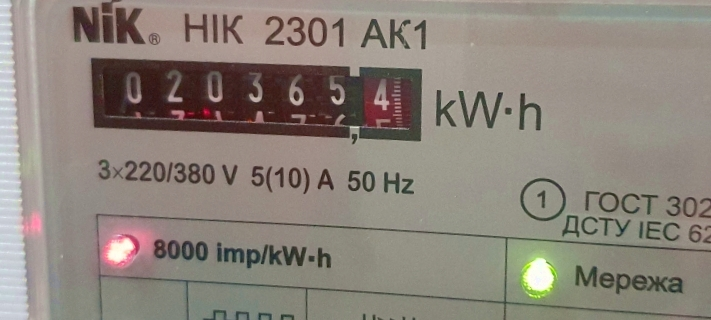0: (204, 67, 226, 104), (122, 69, 145, 104)
2: (161, 67, 186, 104)
3: (245, 67, 266, 104)
4: (371, 75, 392, 111)
5: (326, 72, 348, 106)
6: (285, 70, 307, 107)
screen: (69, 32, 445, 162)
